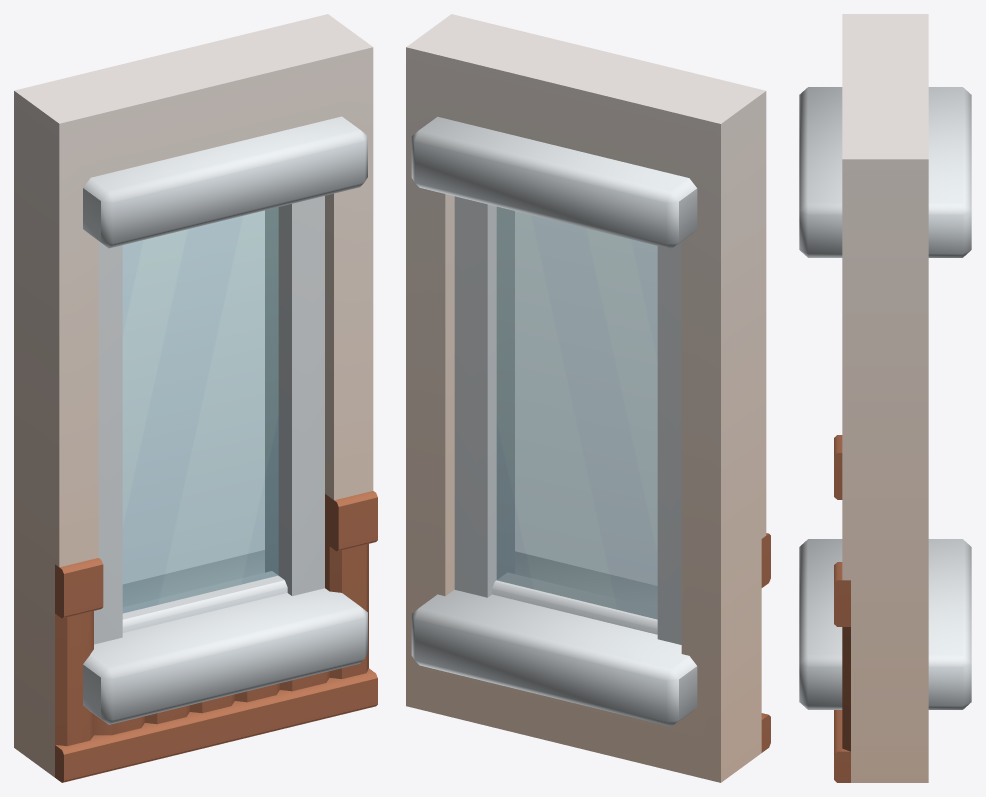
File: wall-panelled-bakery-window-large.glb
3 renders of one model, left to right at view 1: azimuth 30°, elevation 25°; view 2: azimuth 150°, elevation 25°; view 3: azimuth 270°, elevation 25°, orthographic. The views are drawn at different scales.
Parts seen in each view (by area): view 1: wall_panelled_bakery_window_large; view 2: wall_panelled_bakery_window_large; view 3: wall_panelled_bakery_window_large.
Boxes of the visible parts, bbox=[...] form: wall_panelled_bakery_window_large: bbox=[14, 14, 377, 782]; wall_panelled_bakery_window_large: bbox=[406, 14, 770, 782]; wall_panelled_bakery_window_large: bbox=[799, 14, 971, 782].
Size of the model in its own units: 2 by 4 by 1.
2 materials, 2 textured.
